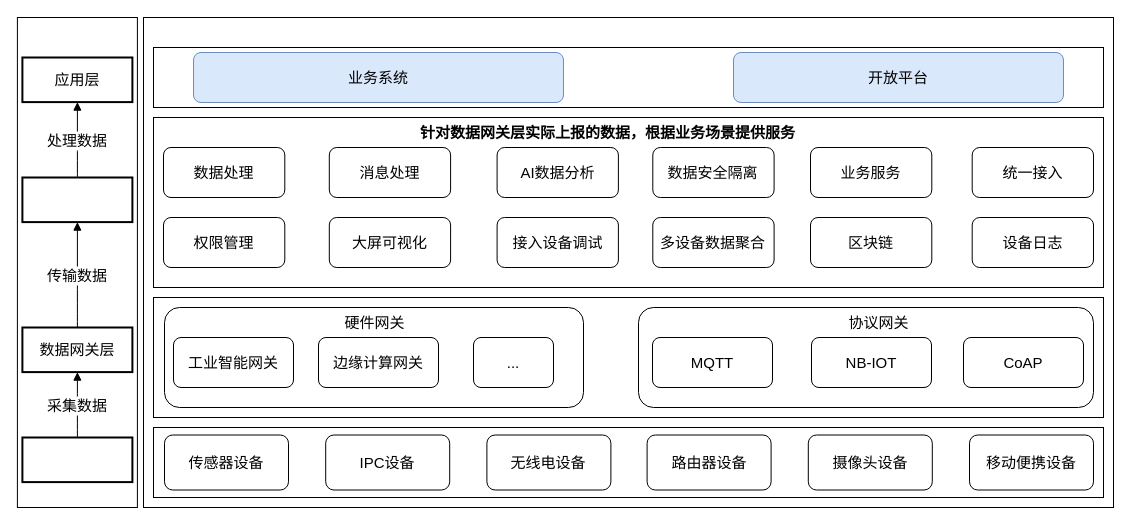
Some shapes in this 1132 by 525 pixel diagram are drawn without their labels. The shapes that lost their labels are listed below. From the top down, each one's centre as x and y in pixels, then its label:
At point 77,199: "云平台".
At point 77,459: "IOT设备层".
